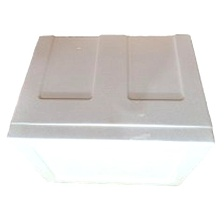foam_box: (2, 30, 220, 191)
